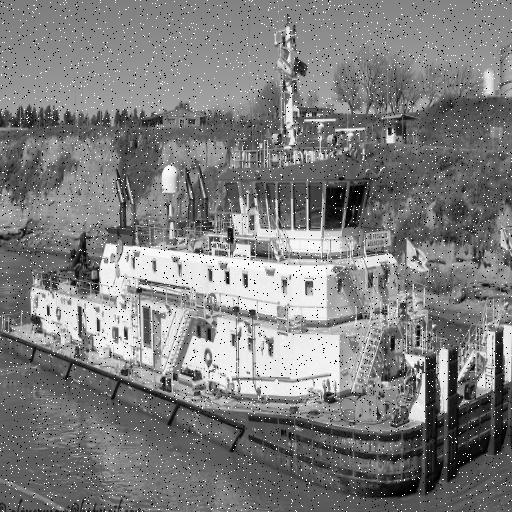tugboat: (1, 114, 512, 509)
